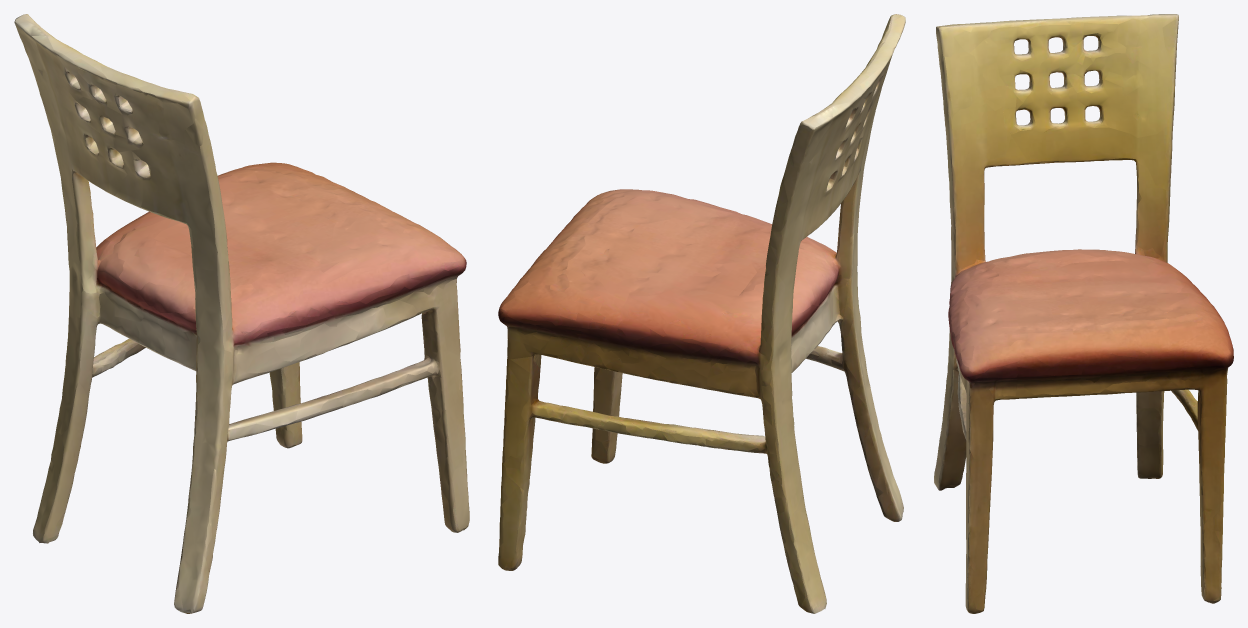
File: correctHeight.glb
3 renders of one model, left to right at view 1: azimuth 30°, elevation 25°; view 2: azimuth 150°, elevation 25°; view 3: azimuth 270°, elevation 25°, orthographic. The views are drawn at different scales.
Parts seen in each view (by area): view 1: unnamed_n3d2; view 2: unnamed_n3d2; view 3: unnamed_n3d2.
Part boxes in pixels (left/top/right/bottom): unnamed_n3d2: left=14, top=14, right=469, bottom=613; unnamed_n3d2: left=498, top=14, right=905, bottom=613; unnamed_n3d2: left=934, top=14, right=1233, bottom=613.
Size of the model in its own units: 0.5636 by 0.8265 by 0.4801.
Materials: 6 (6 with a texture image).
